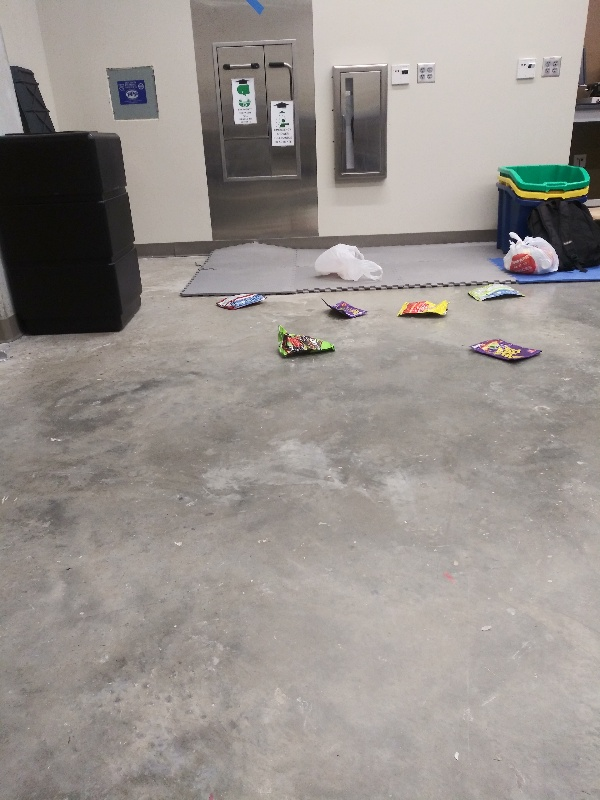bag: (271, 320, 342, 357), (467, 336, 544, 364), (319, 295, 370, 320), (394, 299, 452, 319), (465, 284, 527, 302), (215, 292, 270, 311)
